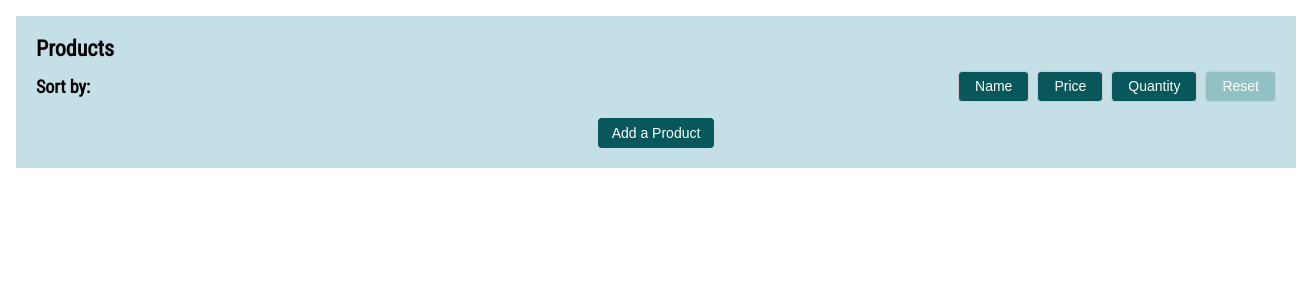
Scenario: Remove form when click 'cancel' button in the form
Click the button "Add a Product". click: click(656, 133)
box: left=598, top=118, right=714, bottom=148
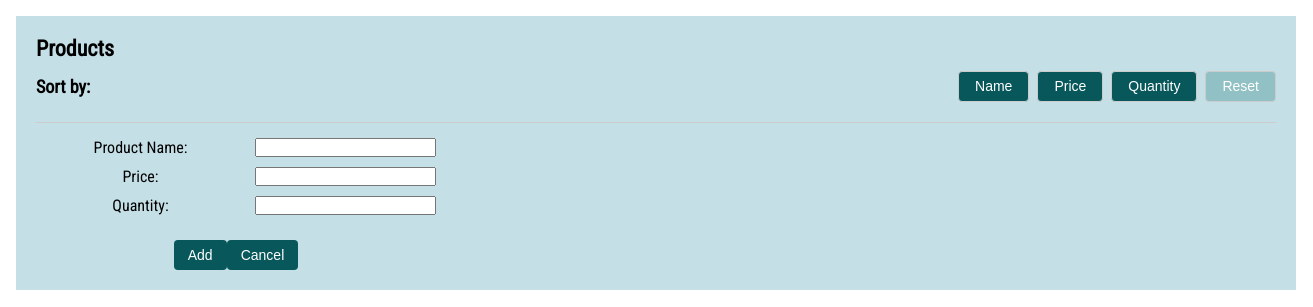
Click the button "Cancel". click: click(262, 255)
box: left=227, top=240, right=298, bottom=270
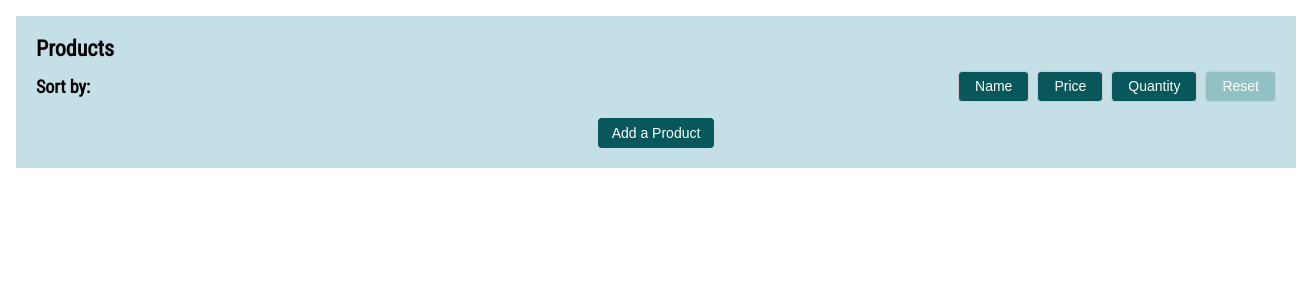
Now the button "Cancel" is gone
